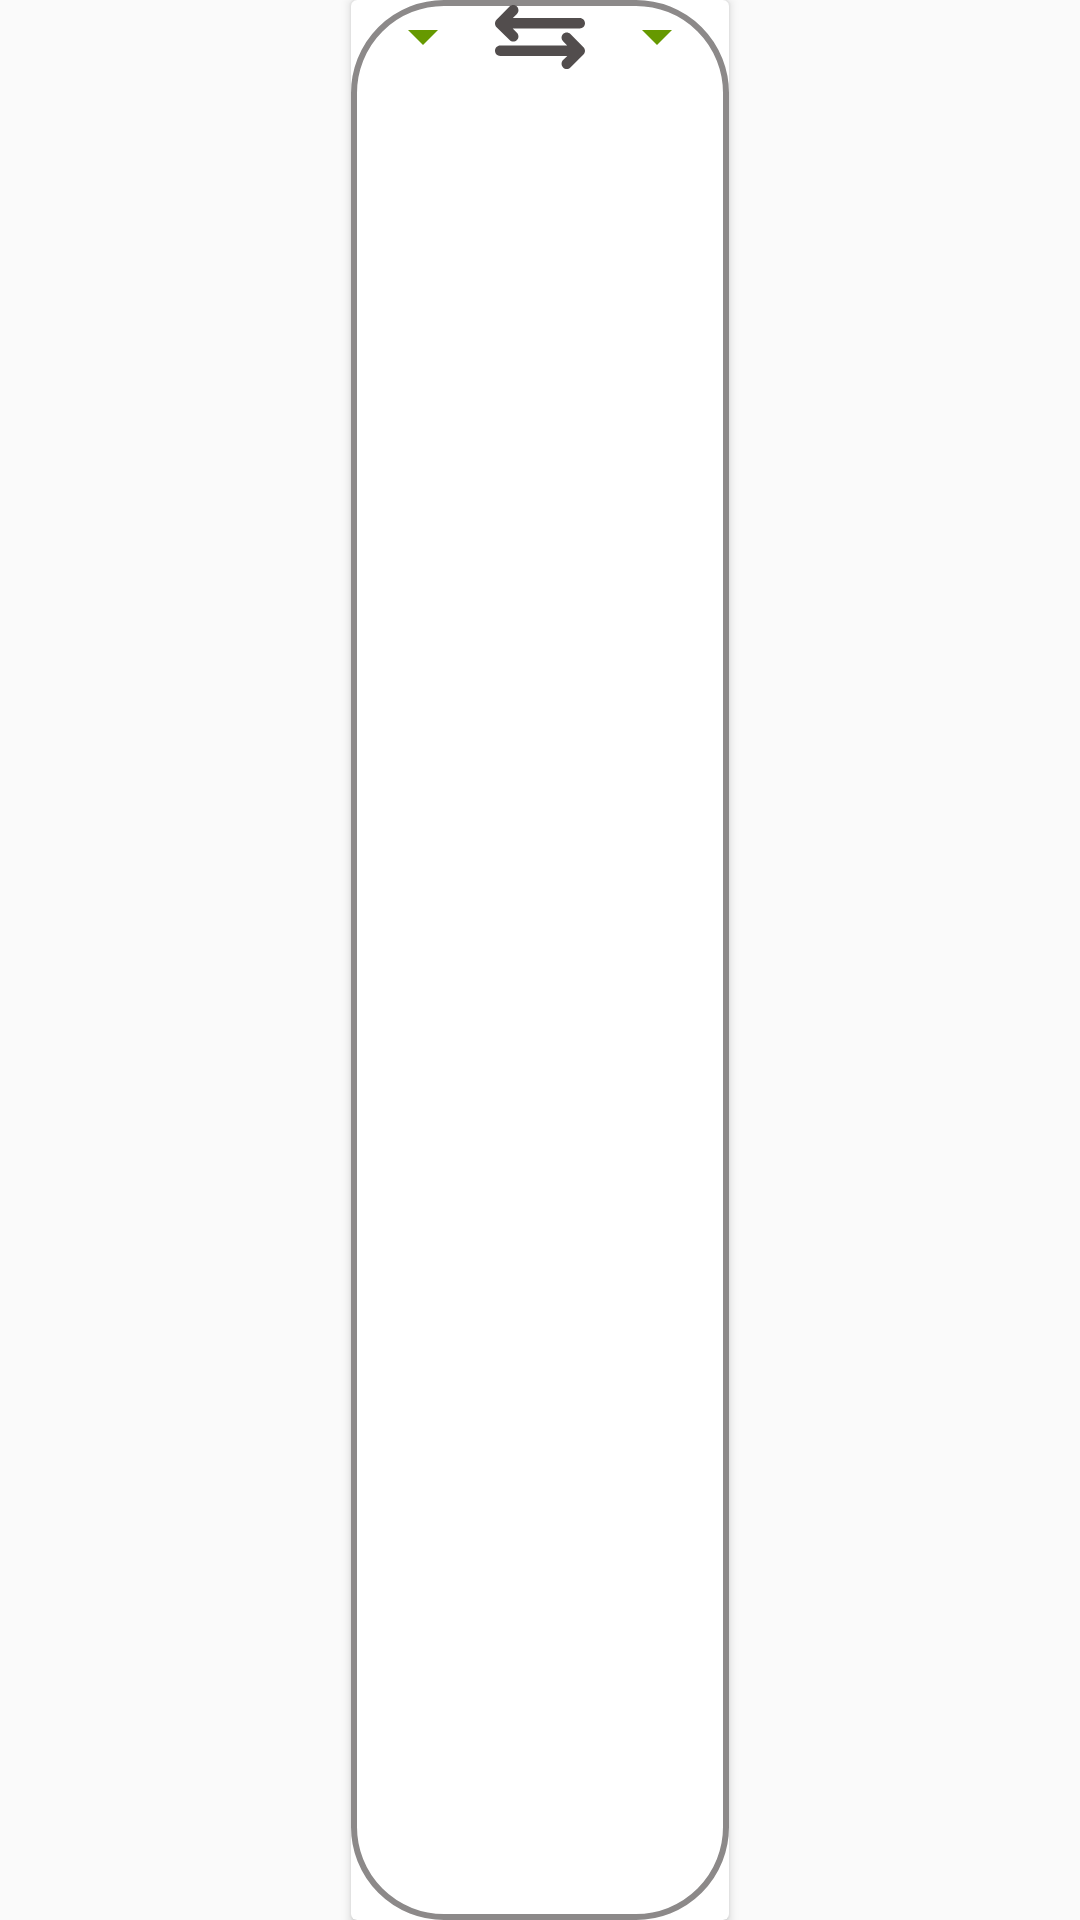

Screen size 1080px x 1920px. Icon name, then its center in pixels as point (x, y):
arrow: point (540, 34)
